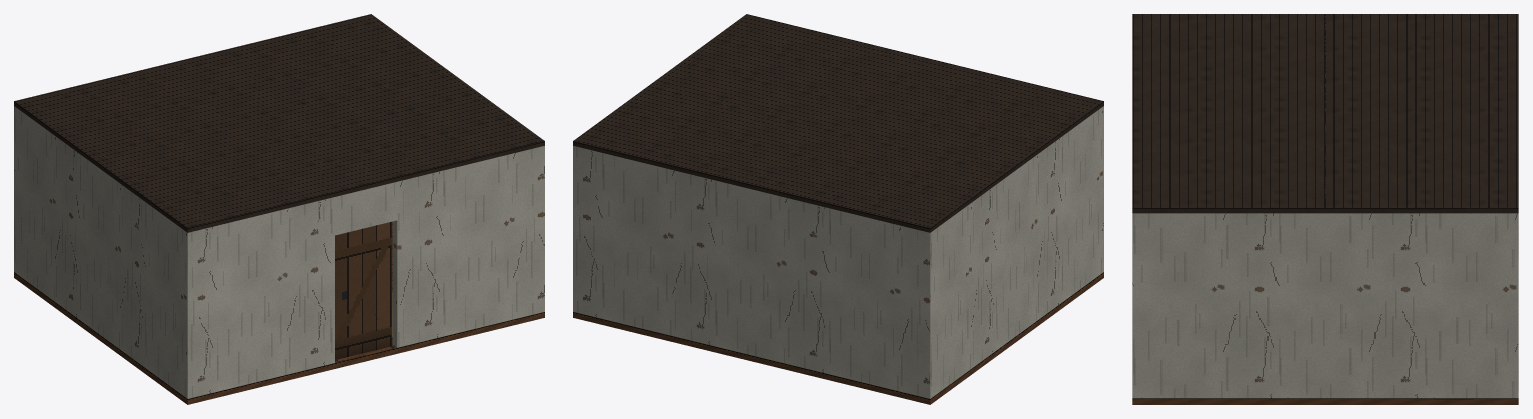
The model's file is motorista.glb.
3 renders of one model, left to right at view 1: azimuth 30°, elevation 25°; view 2: azimuth 150°, elevation 25°; view 3: azimuth 270°, elevation 25°, orthographic. The views are drawn at different scales.
Visible parts, largest first — view 1: sala-col, teto-col; view 2: sala-col, teto-col; view 3: teto-col, sala-col.
Boxes of the visible parts, left/top/right/bottom form: sala-col: left=14, top=106, right=544, bottom=404; teto-col: left=14, top=14, right=544, bottom=232; sala-col: left=573, top=106, right=1103, bottom=404; teto-col: left=573, top=14, right=1103, bottom=232; teto-col: left=1132, top=14, right=1518, bottom=213; sala-col: left=1132, top=213, right=1518, bottom=404.
Bounding box in the file's own units: 6.3 × 2.98 × 5.3.
Materials: 12 (12 with a texture image).
